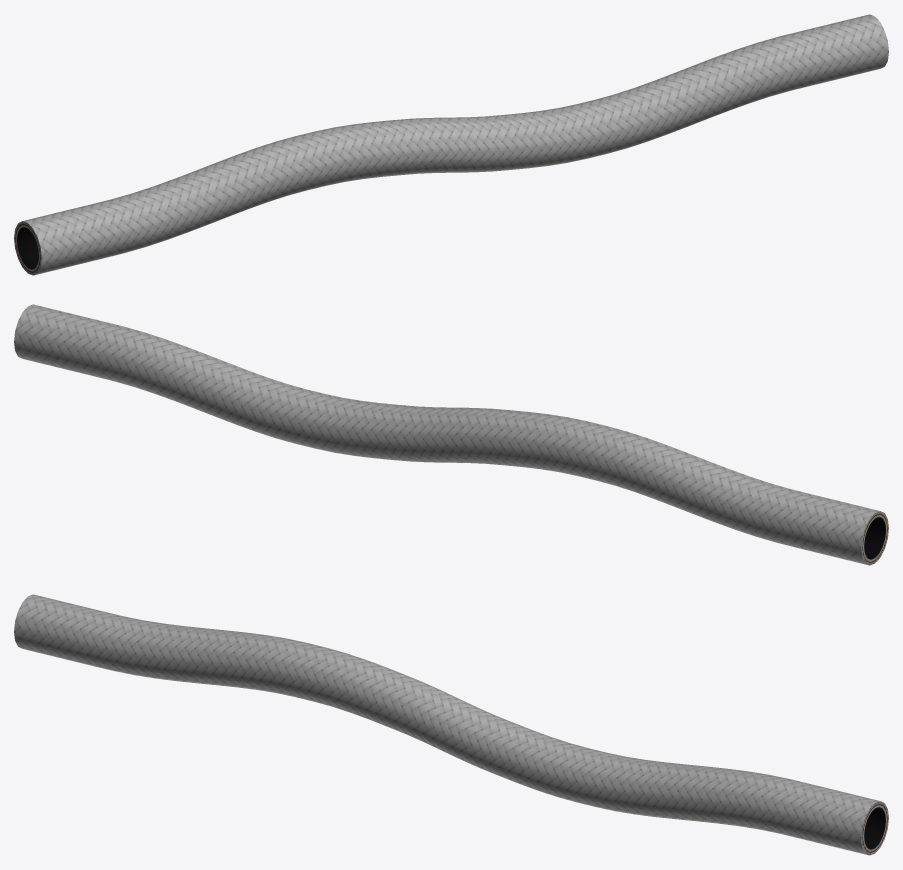
The picture shows the model from 3 angles, top to bottom: view 1: azimuth 30°, elevation 25°; view 2: azimuth 150°, elevation 25°; view 3: azimuth 330°, elevation 25°; orthographic projection.
Parts seen in each view (by area): view 1: ProBlack_SB_SS-08; view 2: ProBlack_SB_SS-08; view 3: ProBlack_SB_SS-08.
Boxes of the visible parts, bbox=[...] form: ProBlack_SB_SS-08: bbox=[14, 14, 888, 275]; ProBlack_SB_SS-08: bbox=[14, 304, 888, 565]; ProBlack_SB_SS-08: bbox=[14, 594, 888, 855].
Size of the model in its own units: 0.3074 by 0.0302 by 0.0175.
2 materials, 2 textured.
